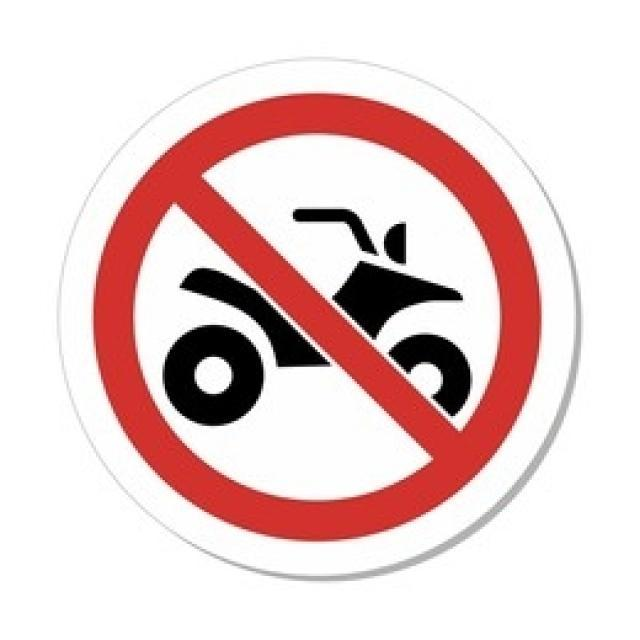all motor vehicle prohibited: (58, 56, 583, 586)
